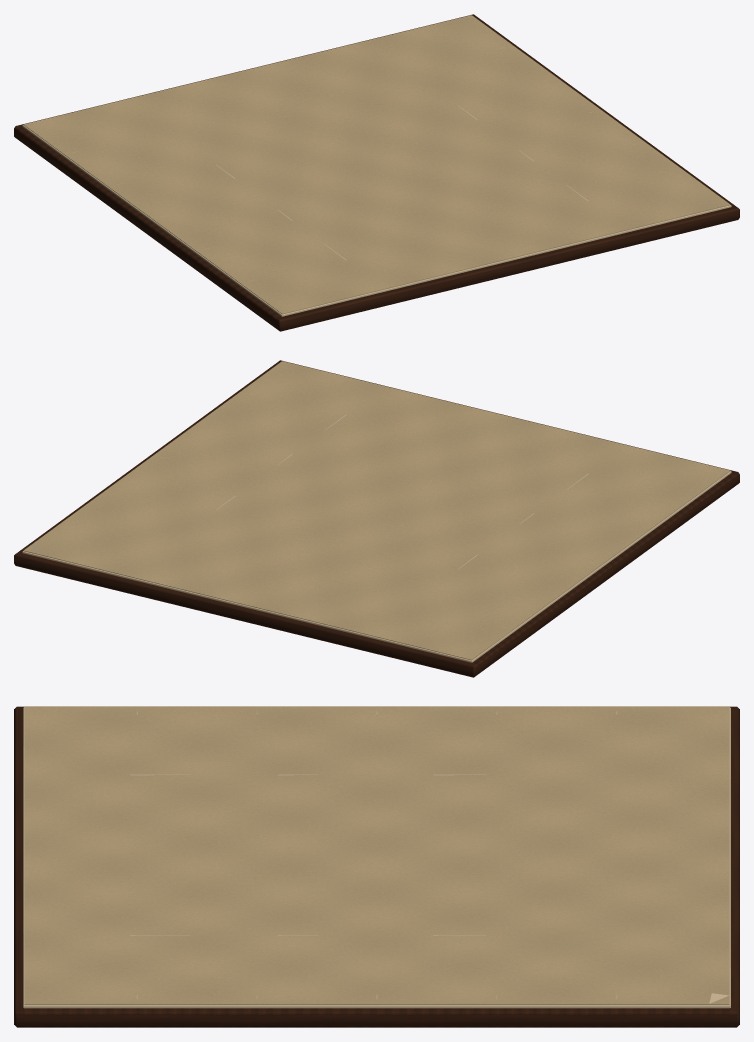
The model's file is arena_square_8.glb.
3 renders of one model, top to bottom at view 1: azimuth 30°, elevation 25°; view 2: azimuth 150°, elevation 25°; view 3: azimuth 270°, elevation 25°, orthographic. The views are drawn at different scales.
Visible parts, largest first — view 1: arena_square_8.002; view 2: arena_square_8.002; view 3: arena_square_8.002.
Boxes of the visible parts, box(x1,y1,x2,y2) form: arena_square_8.002: box(14, 14, 739, 331); arena_square_8.002: box(14, 360, 739, 677); arena_square_8.002: box(14, 706, 739, 1027).
Size of the model in its own units: 8.24 by 0.297 by 8.24.
Materials: 4 (2 with a texture image).
